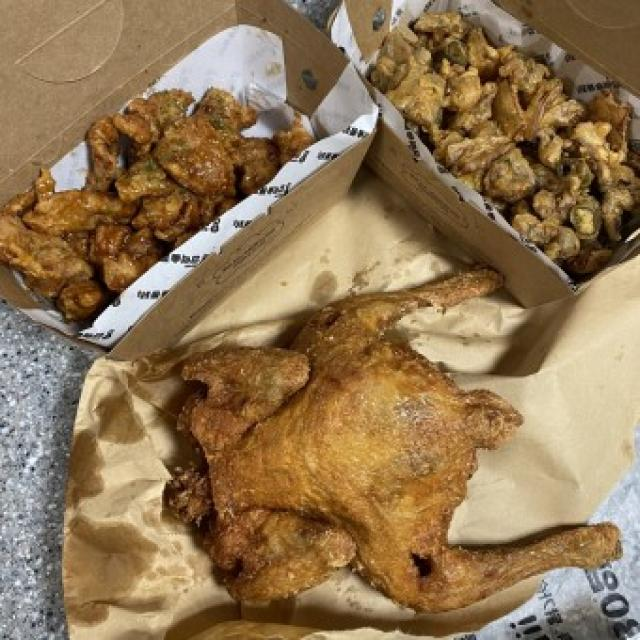Frango: (151, 337, 636, 640)
